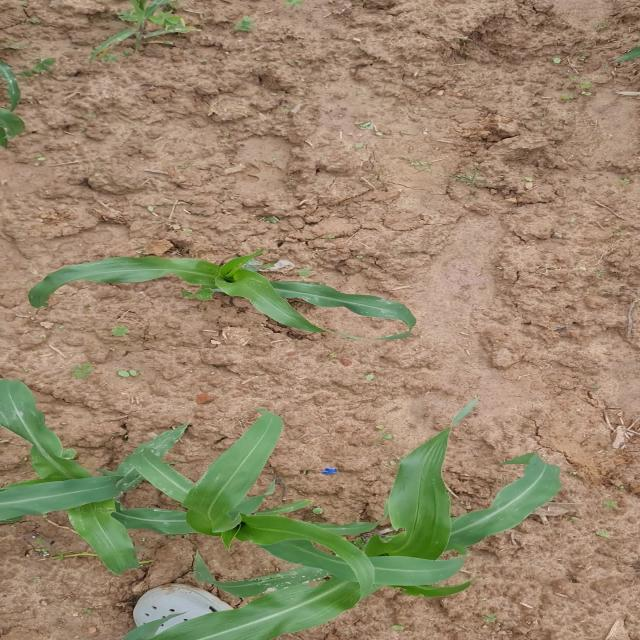maize: (9, 397, 604, 568), (65, 247, 412, 328), (243, 573, 427, 640)
weed: (0, 0, 219, 150)
